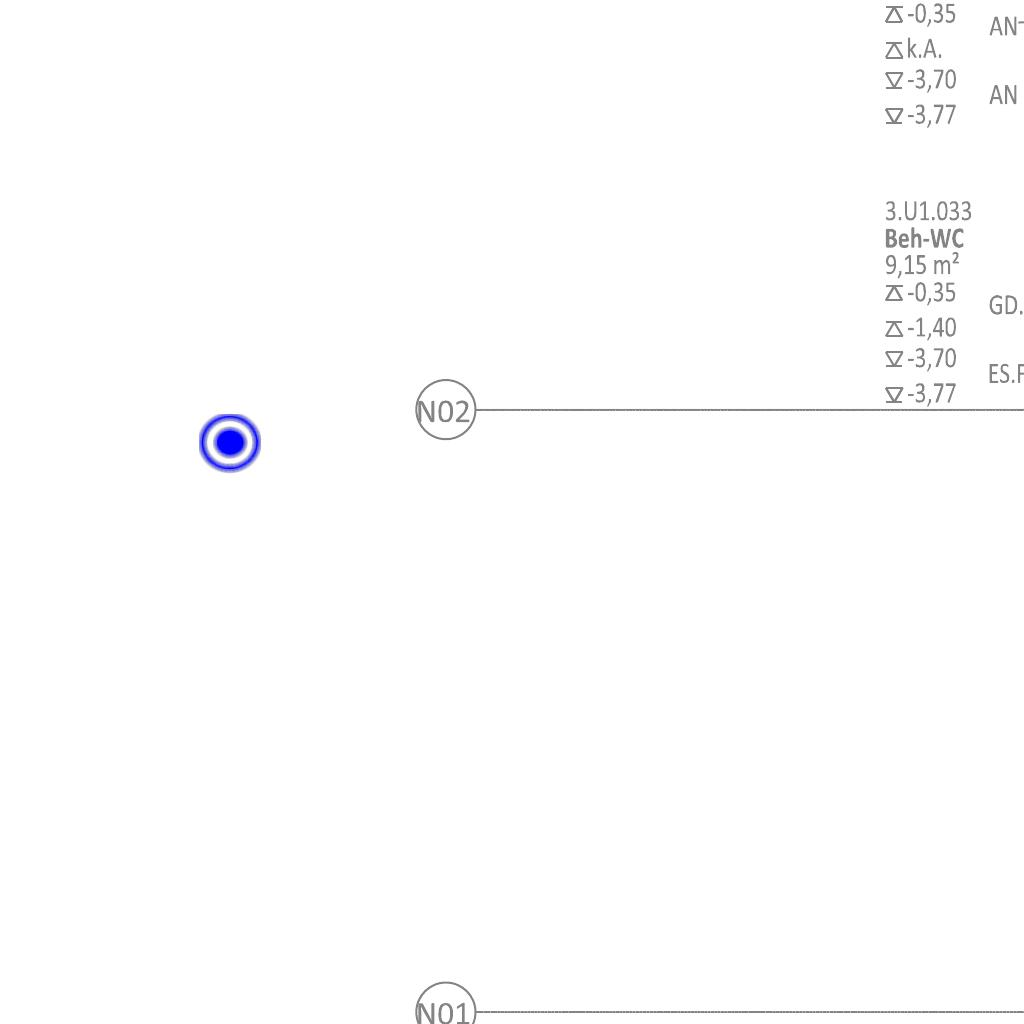Taster: (197, 412, 263, 478)
